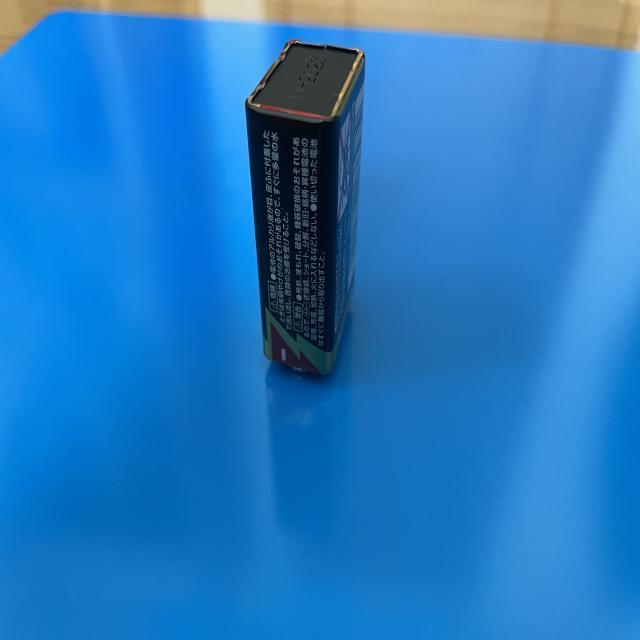9V: (245, 39, 365, 378)
